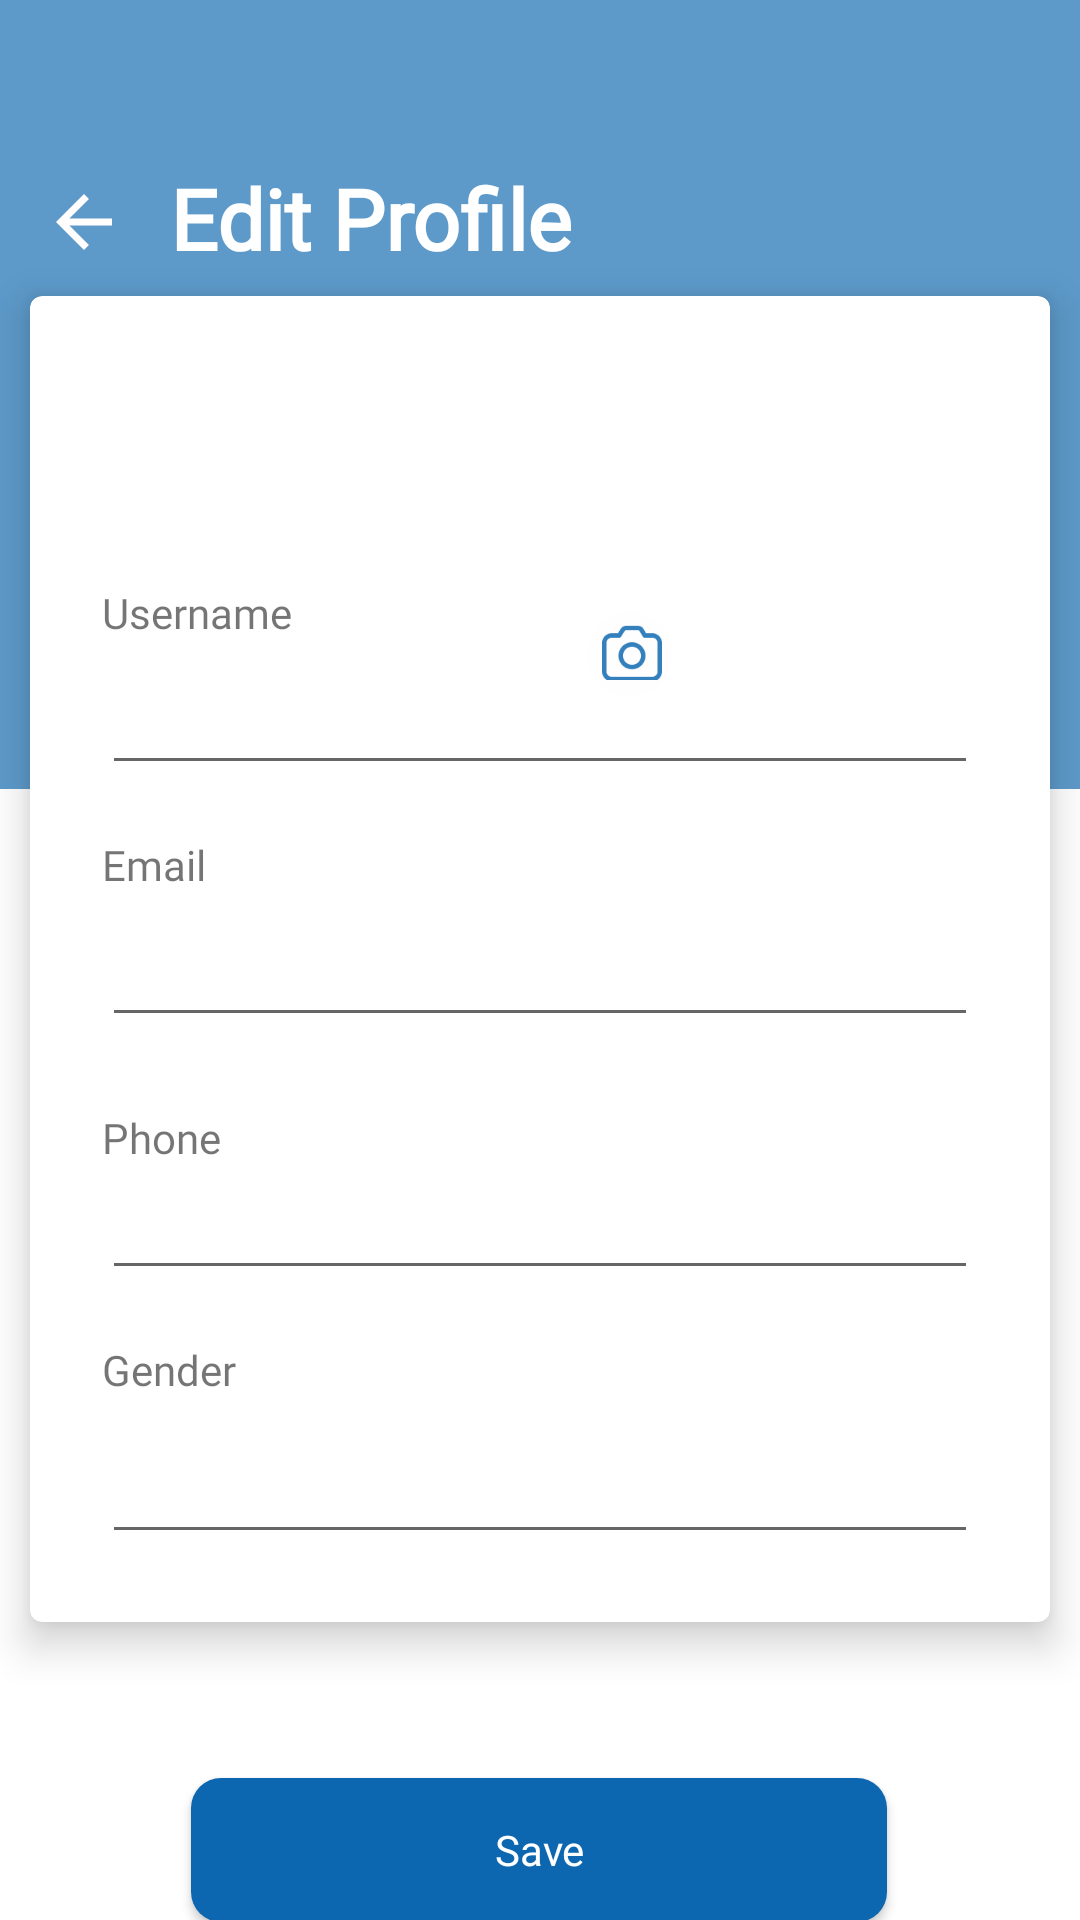

Screen size 1080px x 1920px. Icon name, then its center in pixels as (x=x, y=y):
arrow back: (x=84, y=222)
camera: (x=632, y=652)
